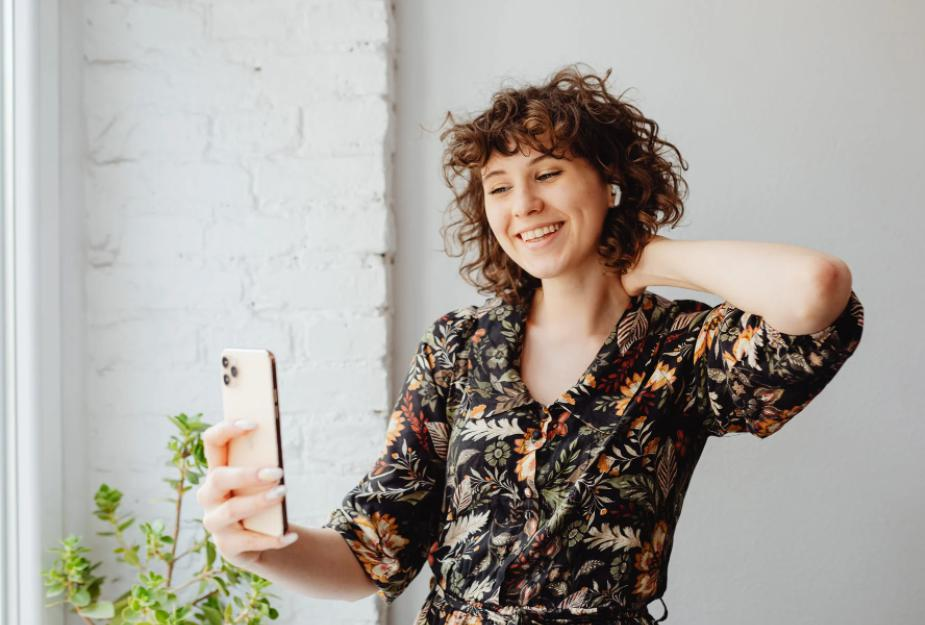mobile: (220, 348, 288, 536)
